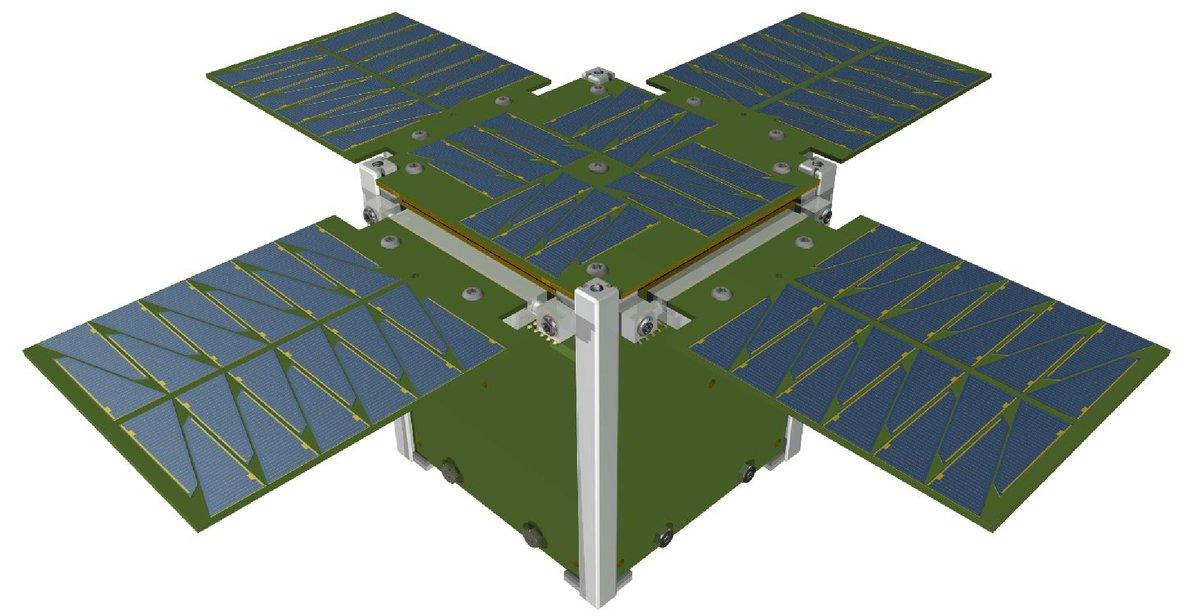body: (356, 61, 841, 612)
solar: (29, 221, 508, 522), (686, 222, 1168, 521), (212, 12, 545, 152), (660, 12, 990, 153), (454, 168, 665, 283), (601, 135, 801, 242), (405, 109, 594, 202), (543, 79, 722, 171)
